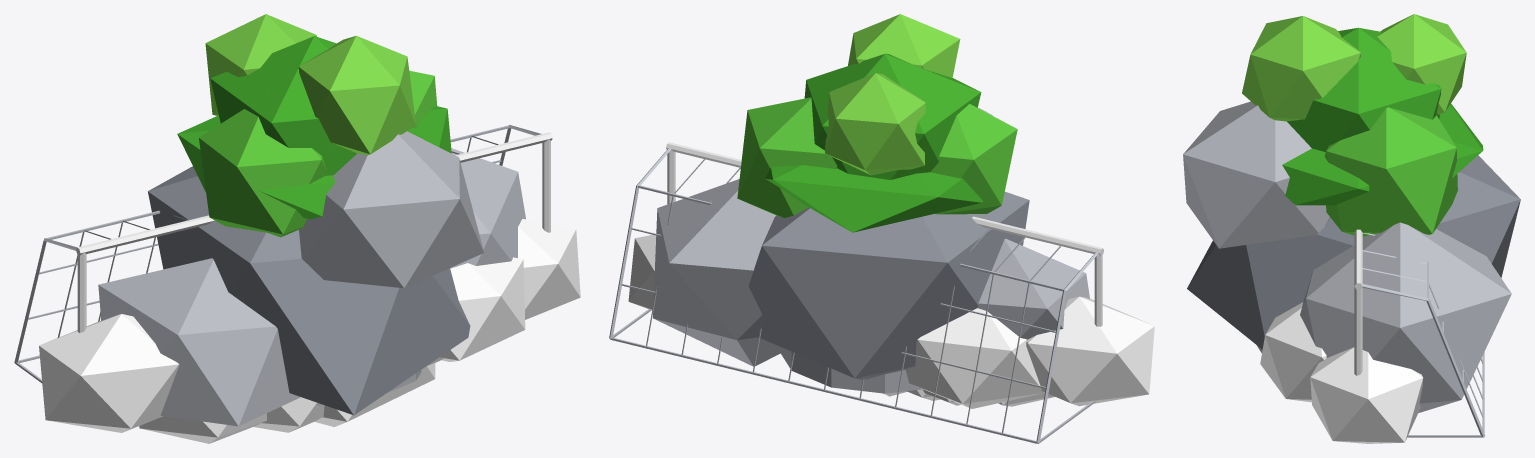
Rendered from props.glb.
3 renders of one model, left to right at view 1: azimuth 30°, elevation 25°; view 2: azimuth 150°, elevation 25°; view 3: azimuth 270°, elevation 25°, orthographic. The views are drawn at different scales.
Visible parts, largest first — view 1: cliff, tree_big, cloud_c, goal, cloud_a; view 2: cliff, tree_big, cloud_c, goal, fountain; view 3: cliff, tree_big, cloud_c, goal.
Part boxes in pixels (box(x1,y1,x2,y2)): cliff: box(98, 106, 525, 426); tree_big: box(199, 14, 437, 237); cloud_c: box(39, 219, 580, 432); goal: box(14, 125, 552, 383); cloud_a: box(139, 357, 443, 443); cliff: box(653, 107, 1089, 379); tree_big: box(737, 14, 1017, 218); cloud_c: box(628, 234, 1154, 408); goal: box(609, 142, 1103, 443); fountain: box(777, 346, 922, 393); cliff: box(1183, 101, 1520, 412); tree_big: box(1242, 14, 1466, 236); cloud_c: box(1260, 302, 1423, 443); goal: box(1354, 229, 1485, 437).
Bounding box in the file's own units: 8.59 × 6.06 × 4.87.
